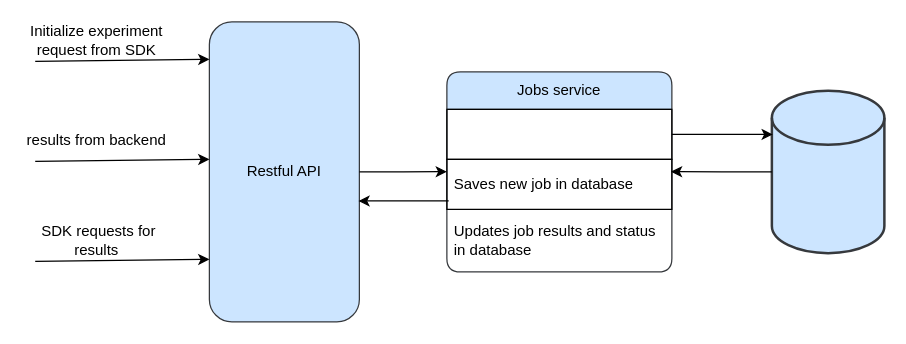
Some shapes in this 906 by 344 pixel diagram are drawn without their labels. The centre of each missing label's shape, as x and y in pixels:
"database" goes at point 827,171.
"Generates unique job ID" goes at point 559,133.
